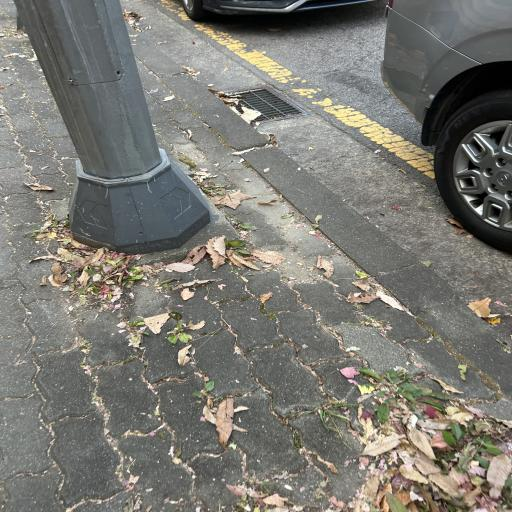debris: (218, 93, 229, 99), (226, 102, 233, 105)
drain: (213, 85, 310, 125)
